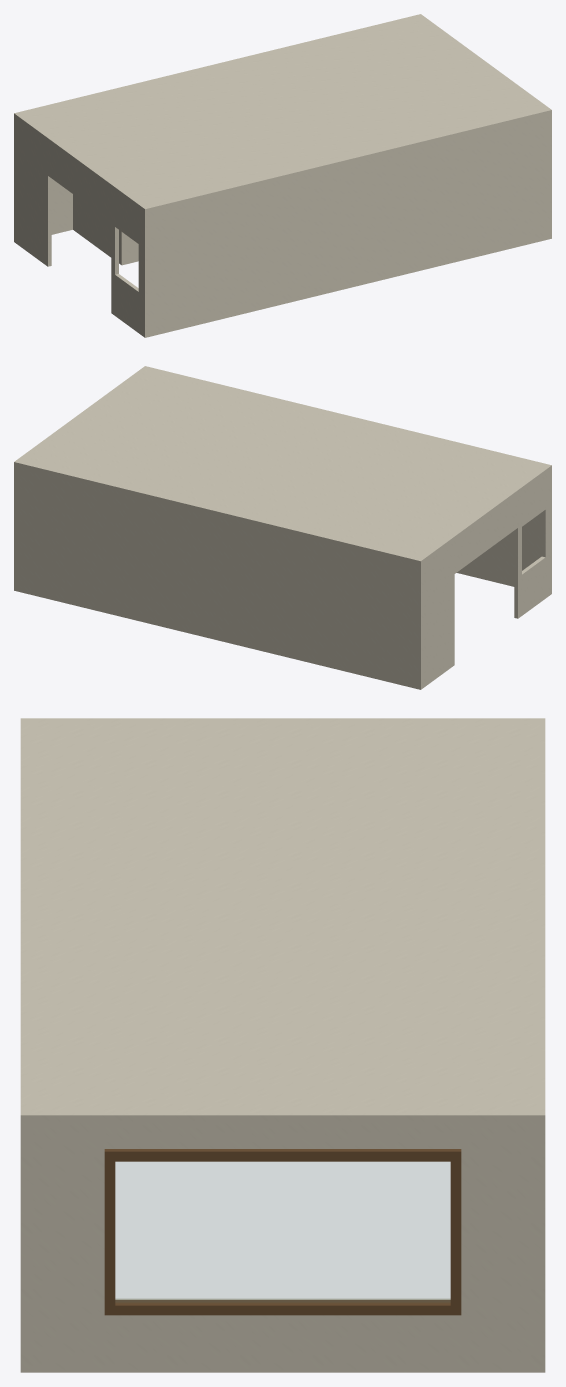
Rendered from NightGardenViewShell_404_r001.glb.
3 views of the same model, one above another, from view 1: azimuth 30°, elevation 25°; view 2: azimuth 150°, elevation 25°; view 3: azimuth 270°, elevation 25° (orthographic). The views are drawn at different scales.
Visible parts, largest first — view 1: NG404_RuntimeBatch_001; view 2: NG404_RuntimeBatch_001; view 3: NG404_RuntimeBatch_001, NVG_404_PrivateViewPane, NVG_404_ViewFrame_Sill, NVG_404_ViewFrame_Head, NVG_404_ViewFrame_Left, NVG_404_ViewFrame_Right.
Boxes of the visible parts, x1,y1,x2,y2 form: NG404_RuntimeBatch_001: (14, 14, 551, 337); NG404_RuntimeBatch_001: (14, 366, 551, 689); NG404_RuntimeBatch_001: (20, 718, 545, 1372); NVG_404_PrivateViewPane: (115, 1162, 450, 1302); NVG_404_ViewFrame_Sill: (104, 1300, 461, 1315); NVG_404_ViewFrame_Head: (104, 1149, 461, 1161); NVG_404_ViewFrame_Left: (450, 1161, 461, 1305); NVG_404_ViewFrame_Right: (104, 1161, 115, 1305).
Size of the model in its own units: 12.99 by 3.9 by 7.2.
3 materials, 1 textured.
